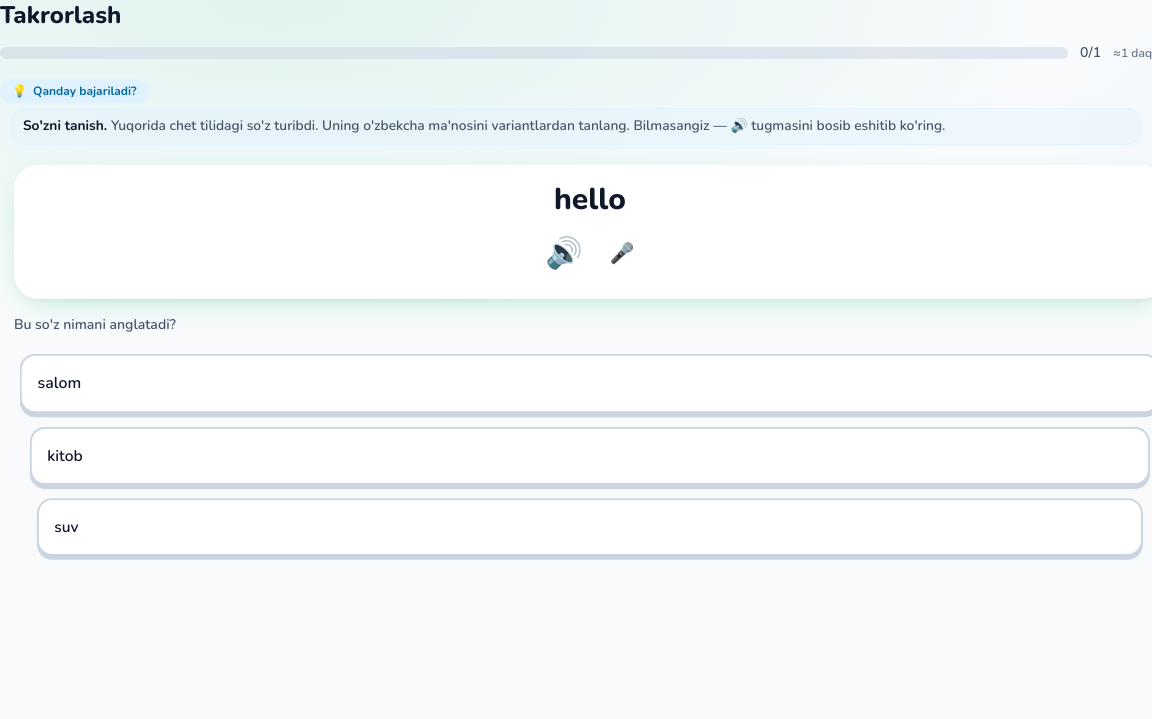
ReviewScreen — mashq oqimi › togri javobda ijobiy feedback va SM-2 bahosi saqlanadi
This screenshot has width=1152, height=719.
Check: the text "0/1" is shown, box [1080,43,1101,63]
Click the button "salom" at (59, 383), box [20,354,1151,413]
(page scrolled)
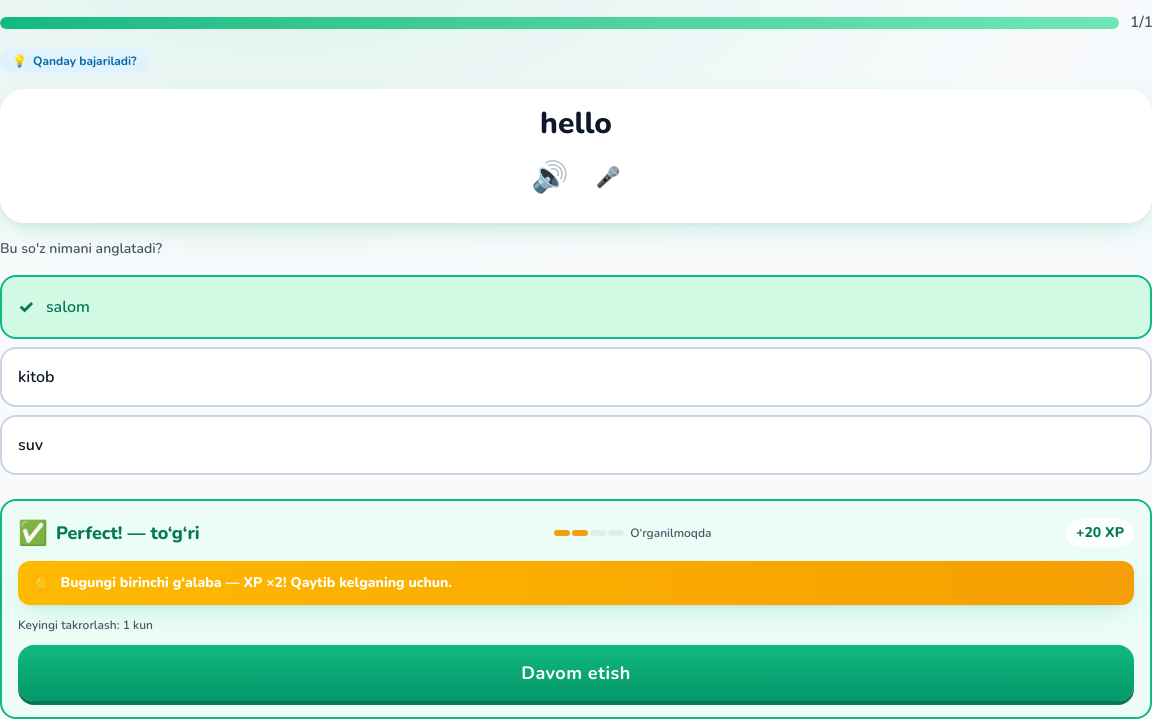
Check: the text "Perfect! — to‘g‘ri" is shown, box [56,519,200,547]
